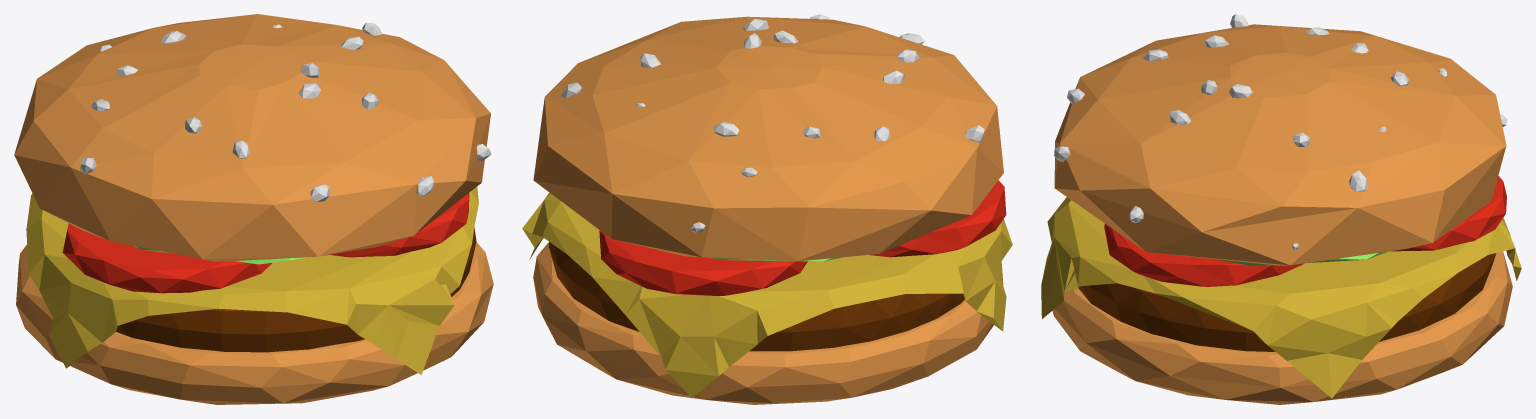
File: Burger.gltf
3 renders of one model, left to right at view 1: azimuth 30°, elevation 25°; view 2: azimuth 150°, elevation 25°; view 3: azimuth 270°, elevation 25°, orthographic. The views are drawn at different scales.
Parts seen in each view (by area): view 1: Cylinder.006, Plane, Cylinder, Cylinder.001, Cylinder.004, Cylinder.003; view 2: Cylinder.006, Plane, Cylinder, Cylinder.001, Cylinder.002, Cylinder.004; view 3: Cylinder.006, Plane, Cylinder, Cylinder.001, Cylinder.003, Cylinder.002.
Boxes of the visible parts, left/top/right/bottom form: Cylinder.006: left=14, top=14, right=490, bottom=261; Plane: left=26, top=186, right=478, bottom=374; Cylinder: left=16, top=242, right=493, bottom=404; Cylinder.001: left=116, top=227, right=476, bottom=352; Cylinder.004: left=62, top=223, right=272, bottom=293; Cylinder.003: left=330, top=193, right=469, bottom=257; Cylinder.006: left=533, top=16, right=1003, bottom=261; Plane: left=522, top=192, right=1012, bottom=398; Cylinder: left=533, top=242, right=1003, bottom=404; Cylinder.001: left=549, top=242, right=964, bottom=351; Cylinder.002: left=599, top=230, right=807, bottom=295; Cylinder.004: left=870, top=180, right=1006, bottom=257; Cylinder.006: left=1054, top=24, right=1506, bottom=265; Plane: left=1041, top=197, right=1521, bottom=398; Cylinder: left=1052, top=251, right=1512, bottom=404; Cylinder.001: left=1079, top=253, right=1496, bottom=351; Cylinder.003: left=1104, top=223, right=1303, bottom=286; Cylinder.002: left=1391, top=176, right=1506, bottom=251.
Size of the model in its own units: 1.85 by 1.05 by 1.84.
Materials: 1 (1 with a texture image).
